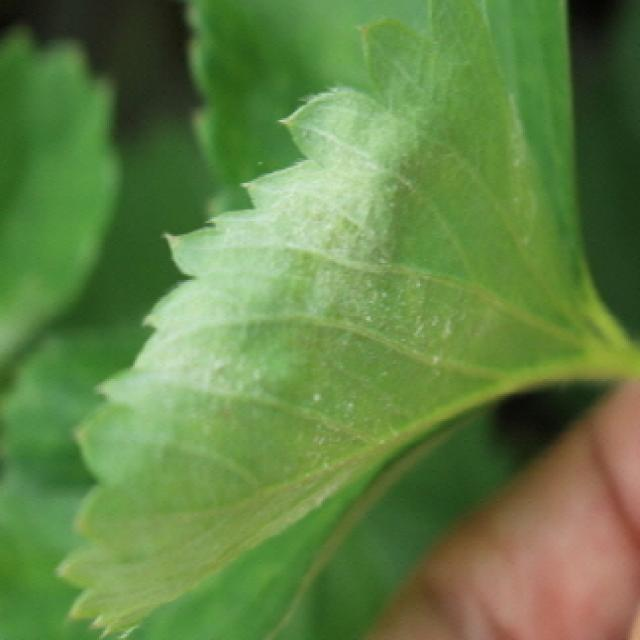Powdery Mildew Leaf: (50, 0, 625, 636)
